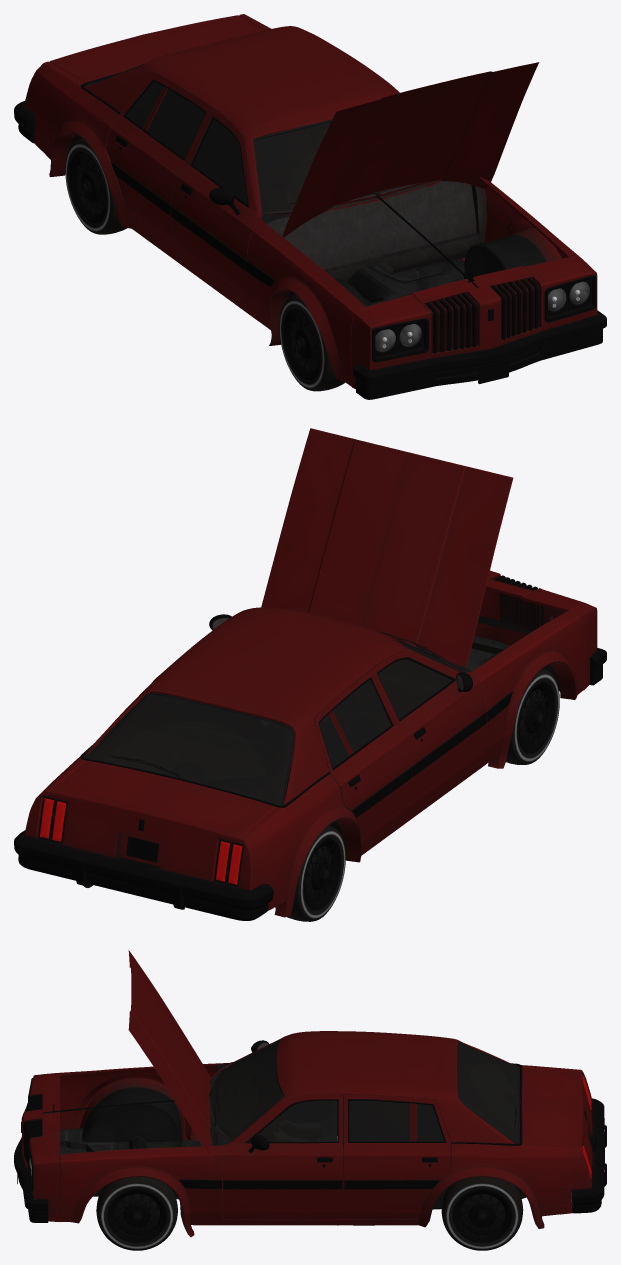
File: car_1.glb
The picture shows the model from 3 angles, top to bottom: view 1: azimuth 30°, elevation 25°; view 2: azimuth 150°, elevation 25°; view 3: azimuth 270°, elevation 25°; orthographic projection. The views are drawn at different scales.
Parts seen in each view (by area): view 1: part_a.14, part_a.001, door_right_frnt.32, door_right_bck.29, bottom.46, glass_front.37, glass_right_b.30, glass_right_f.34, wheel_fr.6, wheel_rr.8, tire_rr2.10, tire_rr1.9 (+4 smaller); view 2: part_a.14, part_a.001, glass_back.36, door_right_frnt.32, door_right_bck.29, glass_right_b.30, part_b.13, glass_right_f.34, wheel_fr.6, wheel_rr.8, tire_rr1.9, back_light.44 (+3 smaller); view 3: part_a.14, door_left_frnt.24, door_left_bck.21, part_a.001, bottom.46, glass_front.37, glass_back.36, glass_left_b.22, glass_left_f.26, wheel_fl.7, wheel_rl.5, tire_rr.4 (+4 smaller).
Part boxes in pixels (x1,y1,x2,y2): part_a.14: (14, 14, 606, 399); part_a.001: (282, 62, 539, 237); door_right_frnt.32: (171, 109, 260, 309); door_right_bck.29: (105, 73, 212, 254); bottom.46: (69, 135, 546, 306); glass_front.37: (255, 122, 441, 219); glass_right_b.30: (126, 81, 205, 158); glass_right_f.34: (193, 119, 247, 204); wheel_fr.6: (284, 308, 320, 380); wheel_rr.8: (69, 151, 106, 223); tire_rr2.10: (279, 295, 344, 391); tire_rr1.9: (65, 138, 127, 234); part_a.14: (14, 570, 606, 920); part_a.001: (261, 428, 513, 667); glass_back.36: (87, 694, 292, 805); door_right_frnt.32: (371, 652, 487, 815); door_right_bck.29: (314, 670, 412, 849); glass_right_b.30: (319, 679, 391, 767); part_b.13: (38, 640, 457, 886); glass_right_f.34: (378, 659, 452, 719); wheel_fr.6: (518, 682, 555, 753); wheel_rr.8: (304, 839, 341, 910); tire_rr1.9: (275, 825, 345, 921); back_light.44: (40, 798, 242, 884); part_a.14: (14, 1031, 606, 1237); door_left_frnt.24: (222, 1094, 343, 1219); door_left_bck.21: (343, 1094, 450, 1219); part_a.001: (128, 950, 212, 1159); bottom.46: (60, 1087, 571, 1225); glass_front.37: (210, 1041, 283, 1140); glass_back.36: (458, 1042, 518, 1143); glass_left_b.22: (343, 1100, 444, 1142); glass_left_f.26: (249, 1100, 337, 1141); wheel_fl.7: (107, 1189, 166, 1242); wheel_rl.5: (453, 1189, 511, 1242); tire_rr.4: (441, 1176, 523, 1250).
Bounding box in the file's own units: 8.76 × 8.86 × 21.34.
35 materials, 35 textured.
